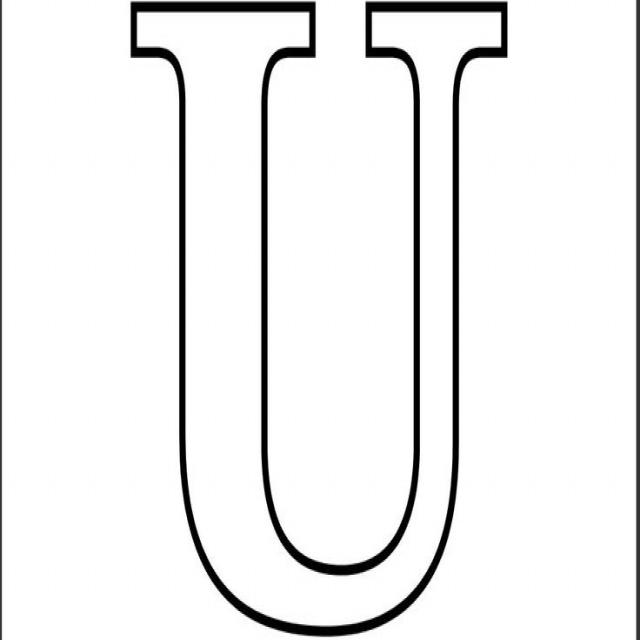U: (109, 0, 554, 640)
